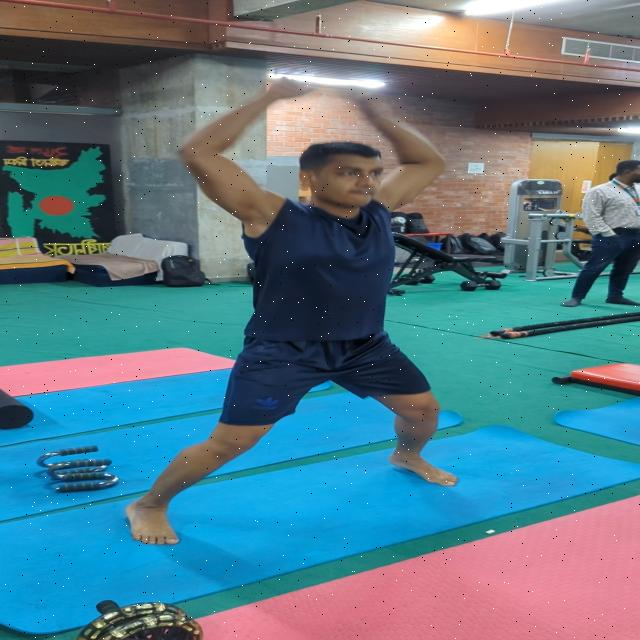Normal_JumpingJacks: (93, 68, 460, 560)
